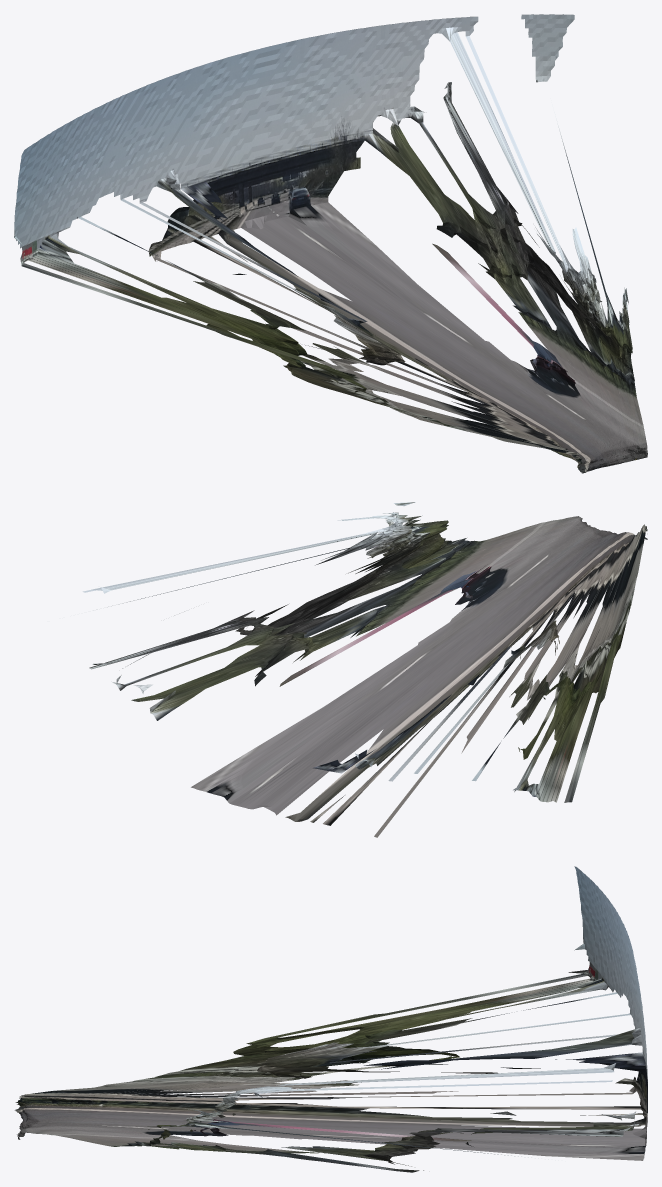
3 renders of one model, top to bottom at view 1: azimuth 30°, elevation 25°; view 2: azimuth 150°, elevation 25°; view 3: azimuth 270°, elevation 25°, orthographic. The views are drawn at different scales.
Parts seen in each view (by area): view 1: defaultobject; view 2: defaultobject; view 3: defaultobject.
Boxes of the visible parts, <box> form: defaultobject: <box>14,14,647,473</box>; defaultobject: <box>82,502,647,837</box>; defaultobject: <box>14,866,647,1172</box>.
Size of the model in its own units: 40.41 by 12.82 by 44.61.
Materials: 1 (1 with a texture image).
